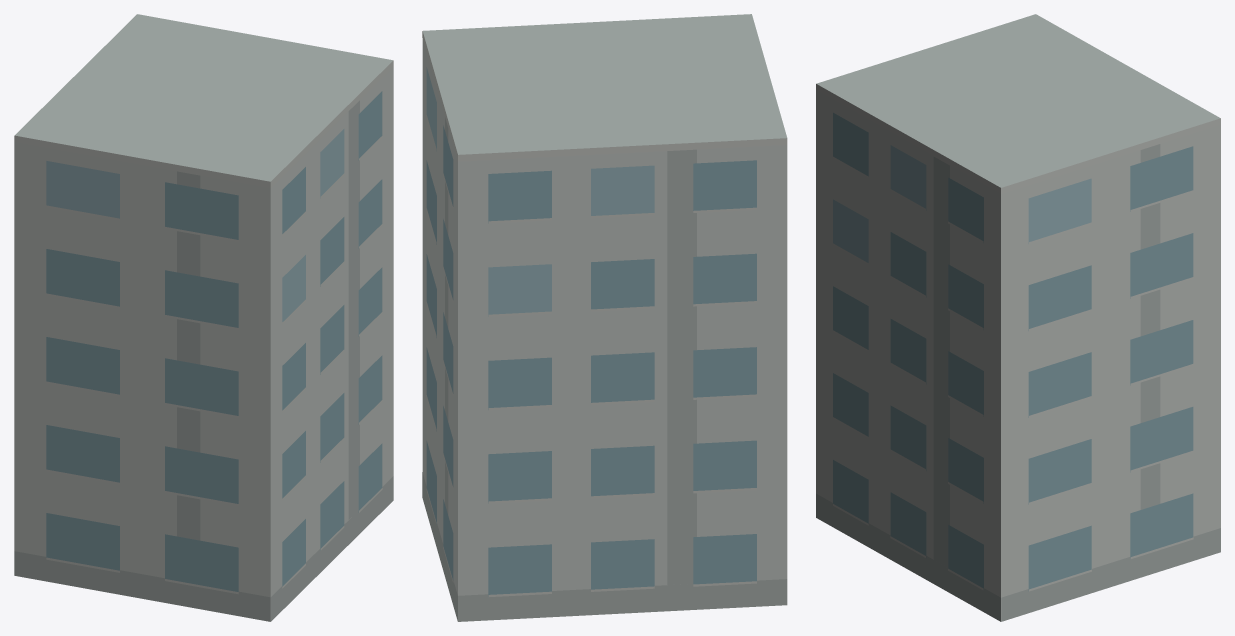
Rendered from residential-f59ce59c-b8cb-4033-8e88-6eea6e79e113.glb.
The picture shows the model from 3 angles, left to right: view 1: azimuth 30°, elevation 25°; view 2: azimuth 150°, elevation 25°; view 3: azimuth 270°, elevation 25°; orthographic projection. The views are drawn at different scales.
Visible parts, largest first — view 1: residential-f59ce59c-b8cb-4033-8e88-6eea6e79e113.tmp; view 2: residential-f59ce59c-b8cb-4033-8e88-6eea6e79e113.tmp; view 3: residential-f59ce59c-b8cb-4033-8e88-6eea6e79e113.tmp.
Boxes of the visible parts, x1=… form: residential-f59ce59c-b8cb-4033-8e88-6eea6e79e113.tmp: x1=14, y1=14, x2=393, y2=621; residential-f59ce59c-b8cb-4033-8e88-6eea6e79e113.tmp: x1=422, y1=14, x2=787, y2=621; residential-f59ce59c-b8cb-4033-8e88-6eea6e79e113.tmp: x1=816, y1=14, x2=1220, y2=621.
Size of the model in its own units: 14.1 by 16.4 by 13.87.
